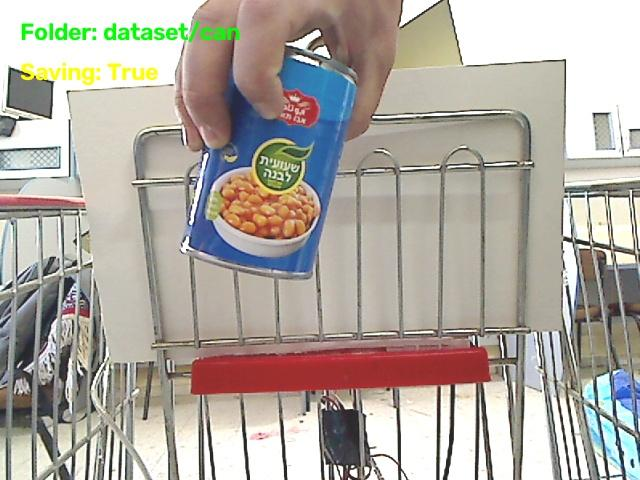can: (181, 47, 355, 278)
